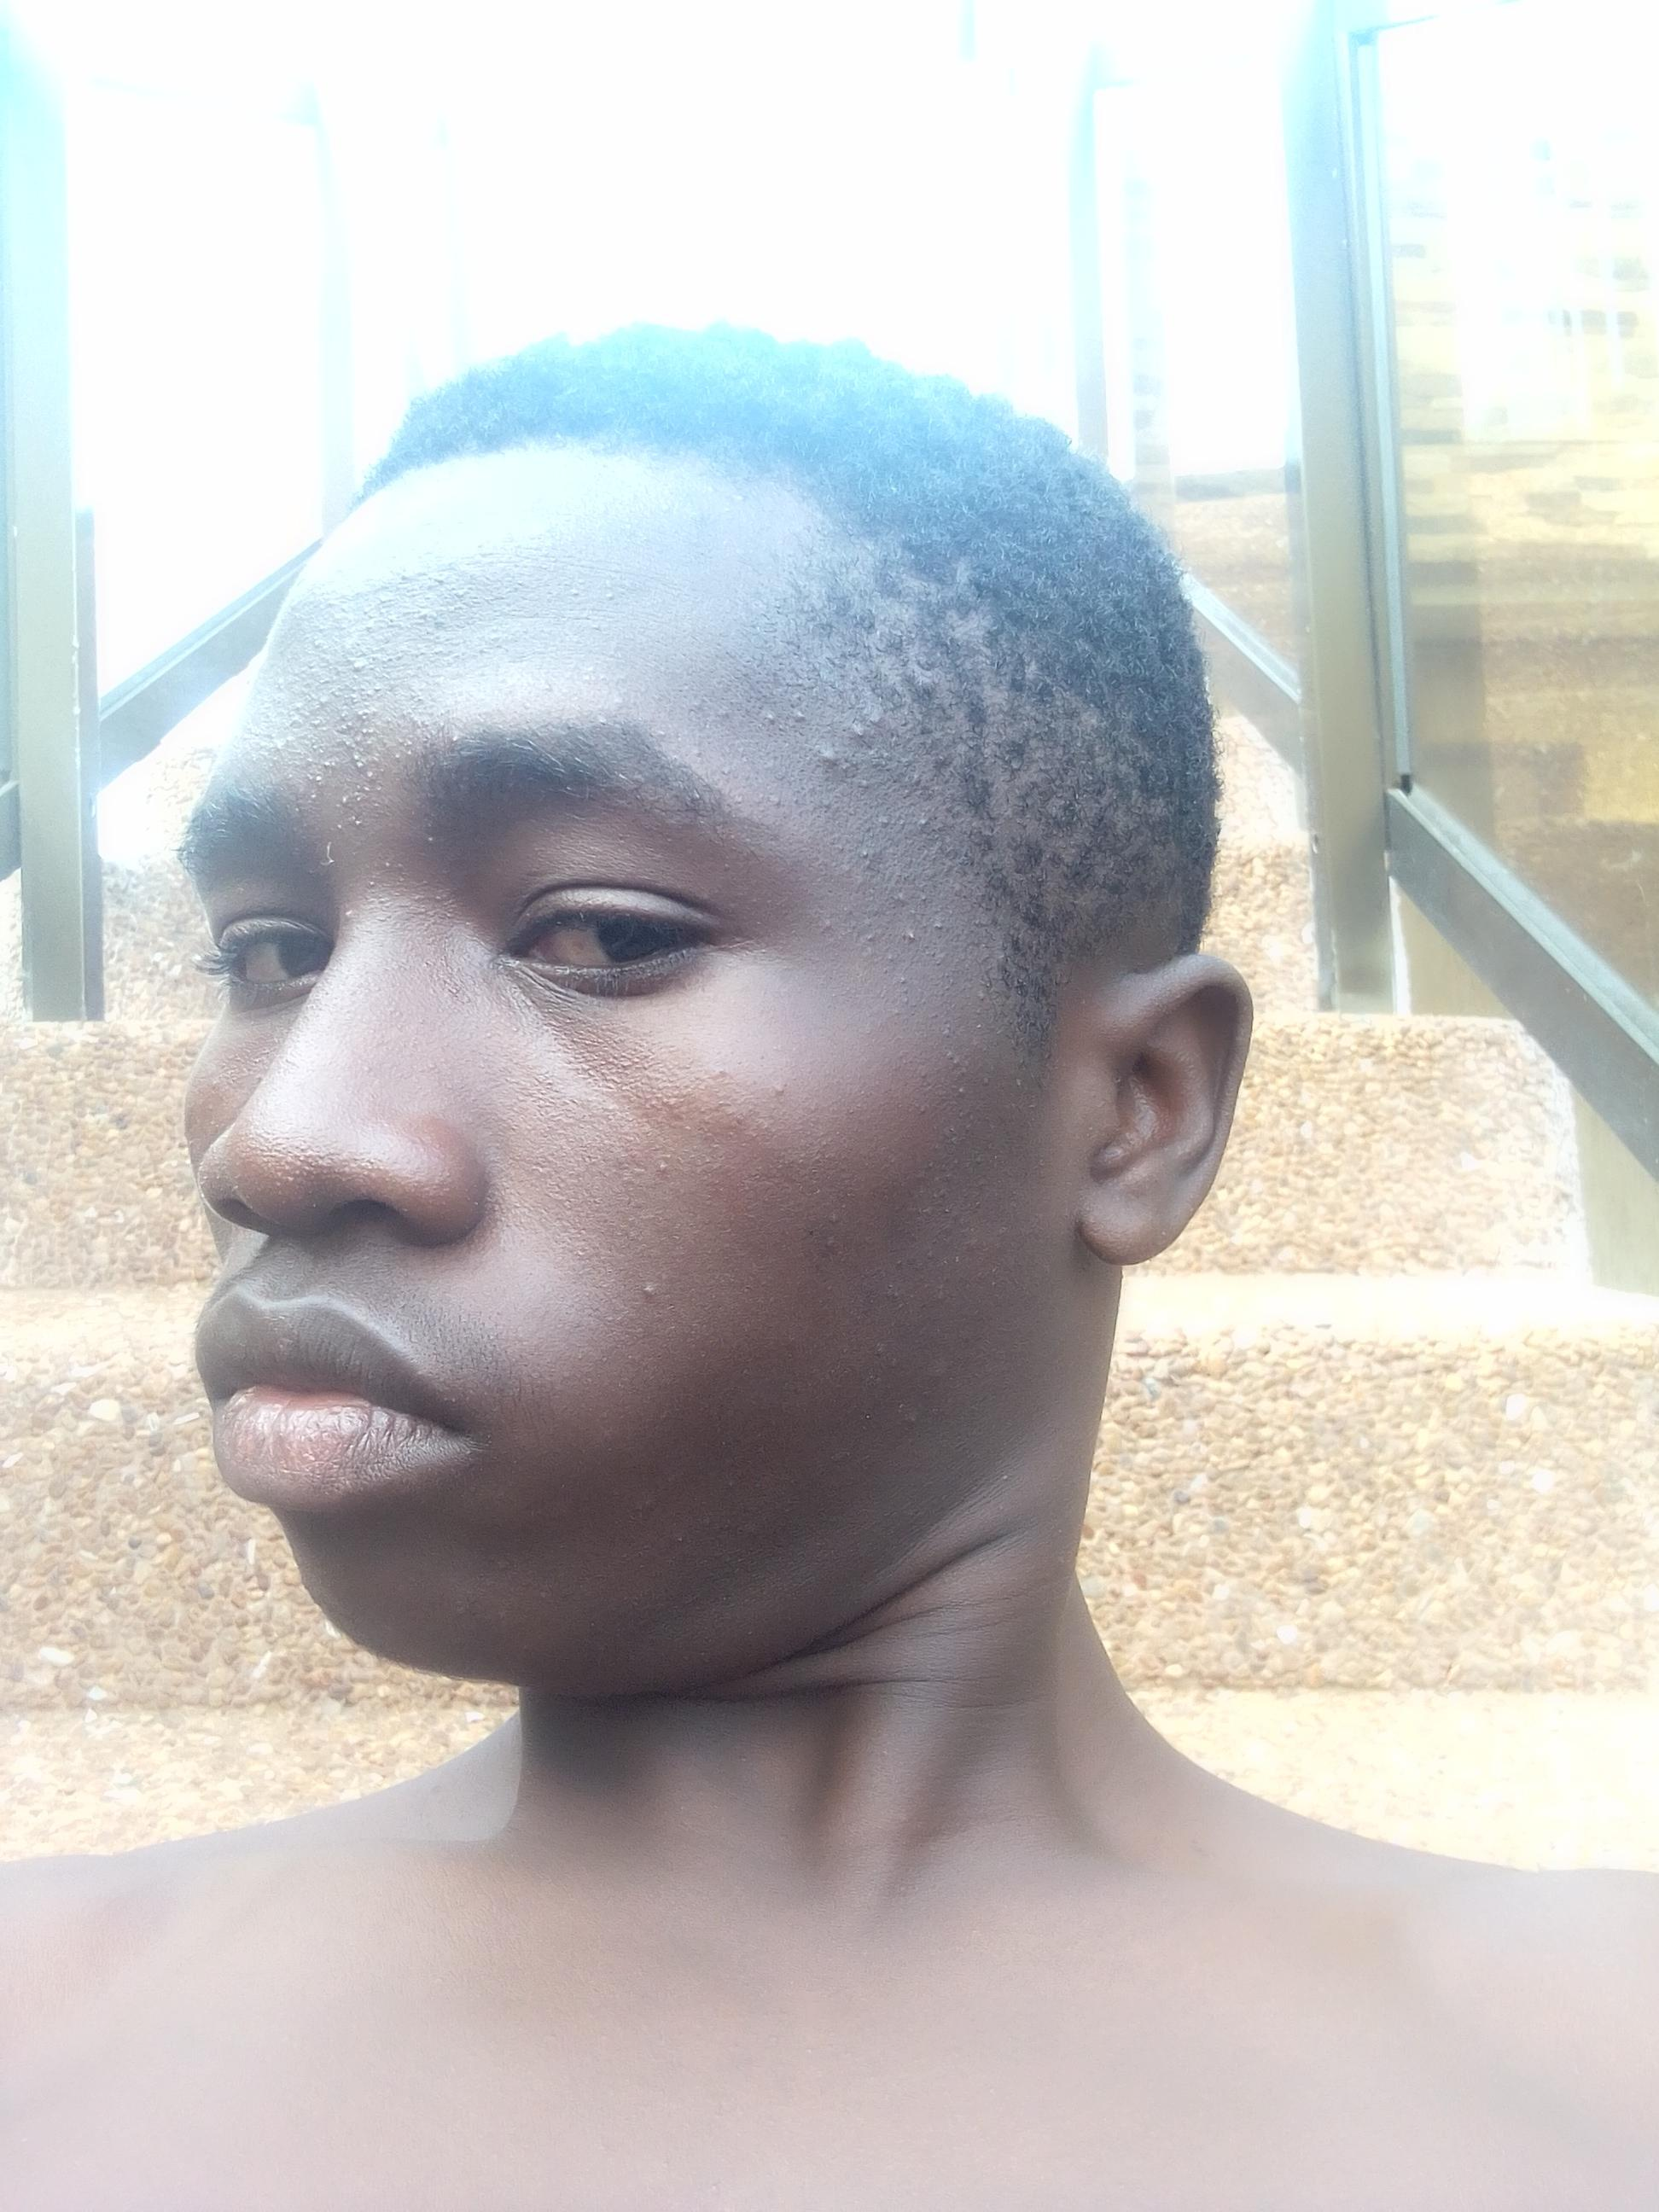Acne: (288, 650, 411, 826), (838, 810, 941, 975), (774, 688, 903, 796), (301, 568, 458, 644), (931, 1008, 976, 1139), (634, 1275, 664, 1299), (772, 1076, 789, 1096)
